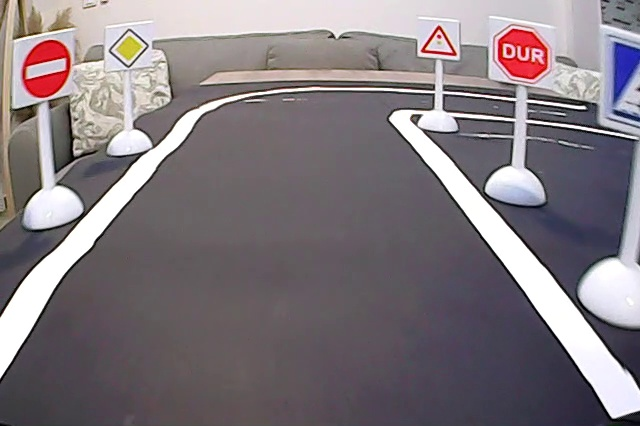do not enter: (17, 38, 75, 100)
red light: (418, 17, 461, 60)
stop sign: (490, 17, 556, 89)
